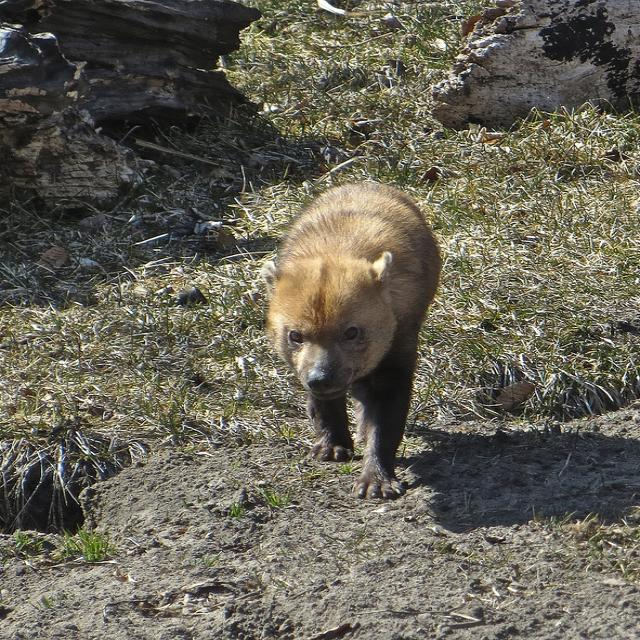Bear: (277, 164, 445, 509)
